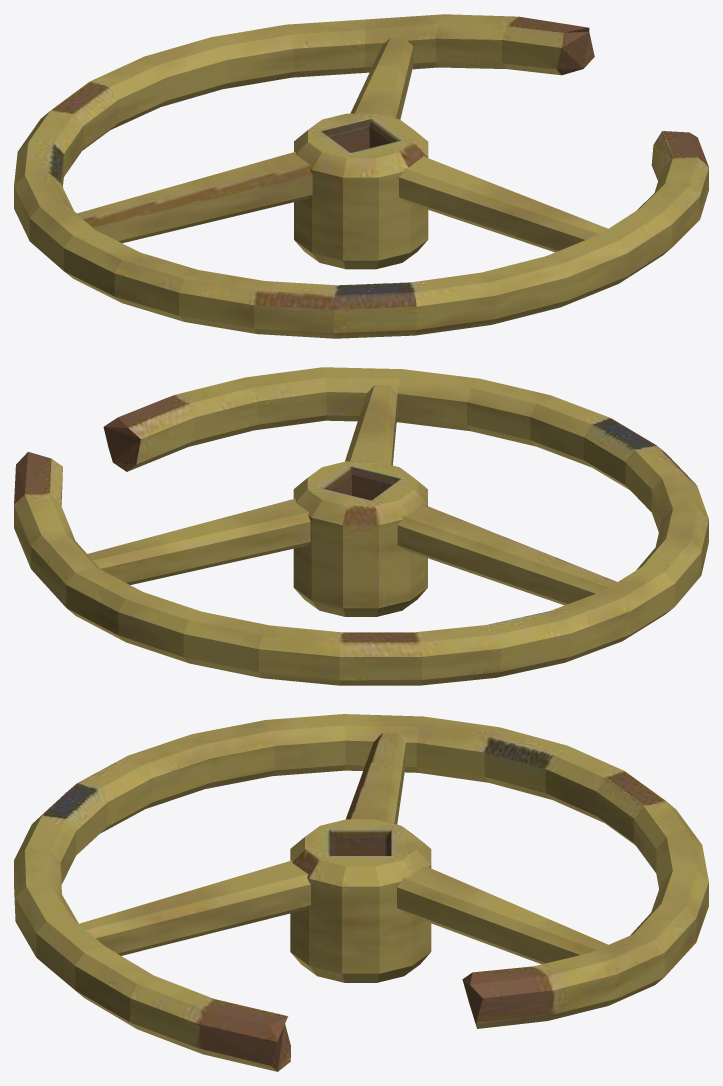
File: P20_colored_valve_handles_v4.glb
3 renders of one model, top to bottom at view 1: azimuth 30°, elevation 25°; view 2: azimuth 150°, elevation 25°; view 3: azimuth 270°, elevation 25°, orthographic. The views are drawn at different scales.
Visible parts, largest first — view 1: Valve handwheel; view 2: Valve handwheel; view 3: Valve handwheel.
Boxes of the visible parts, x1=… form: Valve handwheel: x1=14, y1=14, x2=708, y2=338; Valve handwheel: x1=14, y1=367, x2=708, y2=685; Valve handwheel: x1=14, y1=714, x2=708, y2=1071.
Size of the model in its own units: 0.2 by 0.0353 by 0.1904.
Materials: 3 (3 with a texture image).
